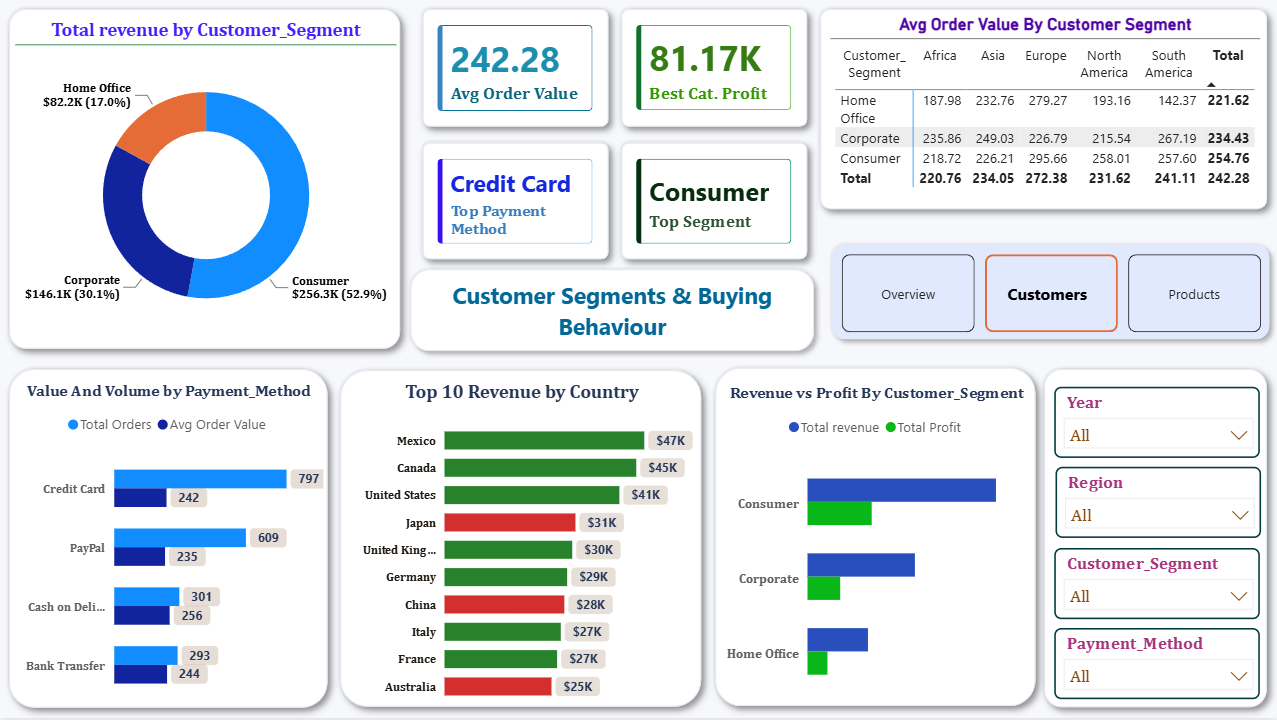

What the dashboard file says about the page in this screenshot:
{"tool":"powerbi","page":{"name":"Customers","canvas":[1280,720],"ordinal":1},"visuals":[{"type":"shape","box":[0,0,413.2,361.8],"z":0},{"type":"shape","box":[810.7,0,469,222.2],"z":1000},{"type":"shape","box":[1035.1,359.7,244.9,360.3],"z":2000},{"type":"shape","box":[612,0,207.7,139.6],"z":2500,"group":"g1"},{"type":"shape","box":[413.3,134,207.7,138.5],"z":2500,"group":"g3"},{"type":"shape","box":[0,359.6,340.6,360.7],"z":3000},{"type":"shape","box":[331.6,361.8,383,358.4],"z":4000},{"type":"shape","box":[706.8,359,342.3,360.3],"z":5000},{"type":"shape","box":[413.3,0,207.7,139.6],"z":5500,"group":"g4"},{"type":"shape","box":[612,134,207.7,138.5],"z":5500,"group":"g2"},{"type":"cardVisual","fields":{"Data":["All Measures.Avg Order Value"]},"box":[427.6,15.4,179.1,110.3],"z":6000,"group":"g4"},{"type":"cardVisual","fields":{"Data":["All Measures.Best Category Profit"]},"box":[626.3,15.4,179.1,110.3],"z":6000,"group":"g1"},{"type":"clusteredBarChart","title":" Value And Volume by Payment_Method","fields":{"Category":["E_Commerce_sales.Payment_Method"],"Y":["All Measures.Total Orders","All Measures.Avg Order Value"]},"box":[15.6,381.9,309.3,329.4],"z":6000},{"type":"group","id":"g1","title":"Group 1","box":[612,0,207.7,139.6],"z":7000},{"type":"cardVisual","fields":{"Data":["All Measures.Top Payment Method"]},"box":[427.6,149.2,179.1,109.4],"z":7000,"group":"g3"},{"type":"group","id":"g2","title":"Group 2","box":[612,134,207.7,138.5],"z":8000},{"type":"group","id":"g3","title":"Group 3","box":[413.3,134,207.7,138.5],"z":9000},{"type":"cardVisual","fields":{"Data":["All Measures.Top Segment"]},"box":[626.3,149.2,179.1,109.4],"z":9000,"group":"g2"},{"type":"group","id":"g4","title":"Group 4","box":[413.3,0,207.7,139.6],"z":10000},{"type":"shape","box":[404.2,262.4,421,99.4],"z":11000},{"type":"slicer","fields":{"Values":["E_Commerce_sales.Region"]},"box":[1057.4,468.9,205.9,71],"z":12000},{"type":"slicer","fields":{"Values":["Date.Year"]},"box":[1056,388.2,205.9,71],"z":13000},{"type":"slicer","fields":{"Values":["E_Commerce_sales.Payment_Method"]},"box":[1056,630.3,205.9,71],"z":14000},{"type":"slicer","fields":{"Values":["E_Commerce_sales.Customer_Segment"]},"box":[1056,549.6,205.9,71],"z":15000},{"type":"donutChart","title":"Total revenue by Customer_Segment","fields":{"Category":["E_Commerce_sales.Customer_Segment"],"Y":["All Measures.Total revenue"]},"box":[17.9,20.1,380.8,320.5],"z":16000},{"type":"clusteredBarChart","title":"Top 10 Revenue by Country","fields":{"Category":["E_Commerce_sales.Country"],"Y":["All Measures.Total revenue"]},"box":[347.3,381.9,352.9,326.1],"z":17000},{"type":"clusteredBarChart","title":"Revenue vs Profit By  Customer_Segment","fields":{"Category":["E_Commerce_sales.Customer_Segment"],"Y":["All Measures.Total revenue","All Measures.Total Profit"]},"box":[728,385.2,302.6,326.1],"z":18000},{"type":"shape","box":[825,237.5,455,112.5],"z":18500},{"type":"pivotTable","title":"Avg Order Value By Customer Segment","fields":{"Columns":["E_Commerce_sales.Region"],"Rows":["E_Commerce_sales.Customer_Segment"],"Values":["All Measures.Avg Order Value"]},"box":[833,15.6,429.9,184.2],"z":19000},{"type":"pageNavigator","box":[843.8,256.2,421.2,78.8],"z":21000}]}

Visuals, with their boxes in screenshot pixels (x1, y1, x2, y2), scaled from the page's 1280x720 canvas onto the 1277x720 screenshot:
shape: (0,0,412,362)
shape: (809,0,1276,222)
shape: (1033,360,1276,719)
shape: (611,0,818,140)
shape: (412,134,620,272)
shape: (0,360,340,719)
shape: (331,362,713,719)
shape: (705,359,1047,719)
shape: (412,0,620,140)
shape: (611,134,818,272)
cardVisual - All Measures.Avg Order Value: (427,15,605,126)
cardVisual - All Measures.Best Category Profit: (625,15,804,126)
" Value And Volume by Payment_Method" clusteredBarChart: (16,382,324,711)
"Group 1" group: (611,0,818,140)
cardVisual - All Measures.Top Payment Method: (427,149,605,259)
"Group 2" group: (611,134,818,272)
"Group 3" group: (412,134,620,272)
cardVisual - All Measures.Top Segment: (625,149,804,259)
"Group 4" group: (412,0,620,140)
shape: (403,262,823,362)
slicer - E_Commerce_sales.Region: (1055,469,1260,540)
slicer - Date.Year: (1054,388,1259,459)
slicer - E_Commerce_sales.Payment_Method: (1054,630,1259,701)
slicer - E_Commerce_sales.Customer_Segment: (1054,550,1259,621)
"Total revenue by Customer_Segment" donutChart: (18,20,398,341)
"Top 10 Revenue by Country" clusteredBarChart: (346,382,699,708)
"Revenue vs Profit By  Customer_Segment" clusteredBarChart: (726,385,1028,711)
shape: (823,238,1276,350)
"Avg Order Value By Customer Segment" pivotTable: (831,16,1260,200)
pageNavigator: (842,256,1262,335)
